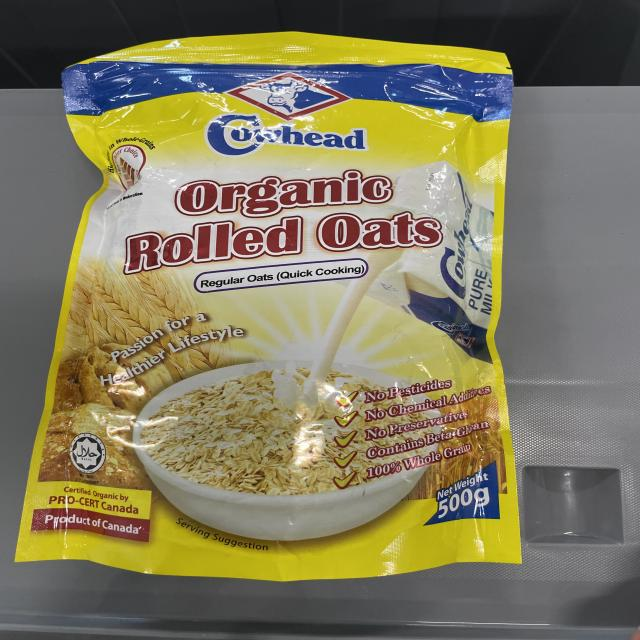object_name: (68, 51, 508, 570)
